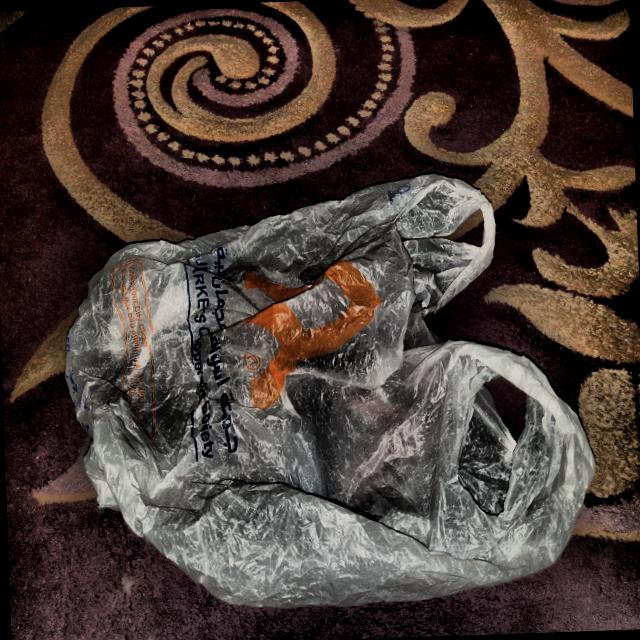plastic bag: (49, 160, 606, 626)
